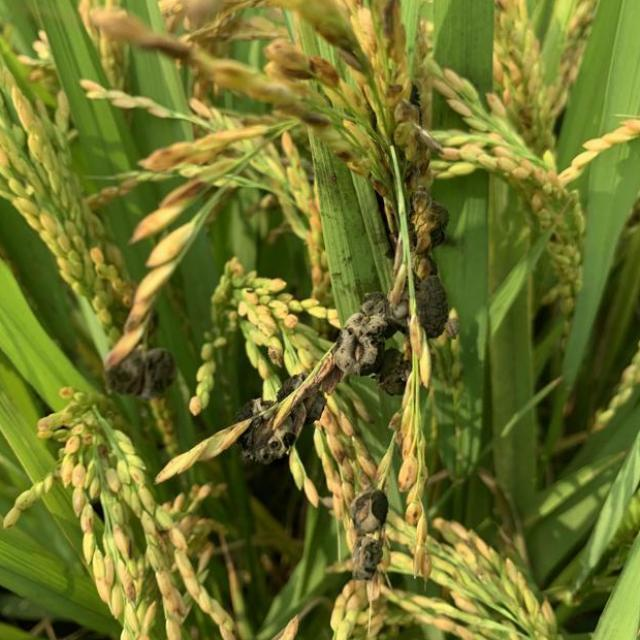Leaf_Scald: (338, 276, 456, 390), (234, 374, 326, 464), (104, 344, 180, 399), (346, 484, 390, 578), (400, 192, 451, 255)
